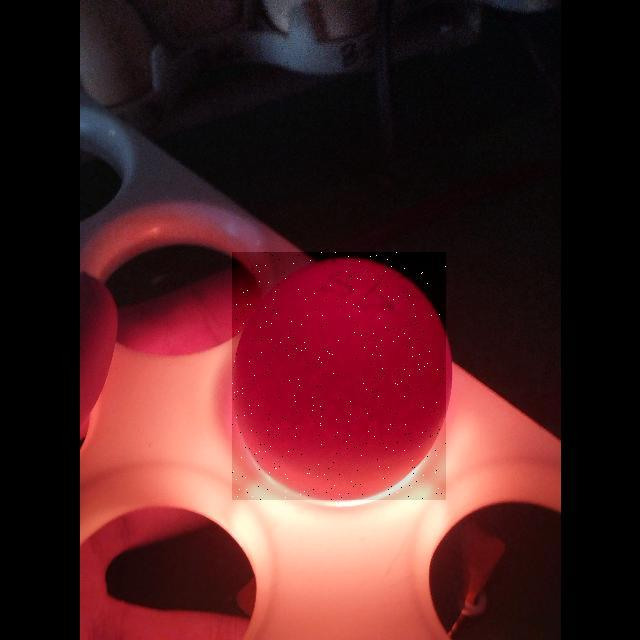Fertile: (232, 252, 446, 500)
